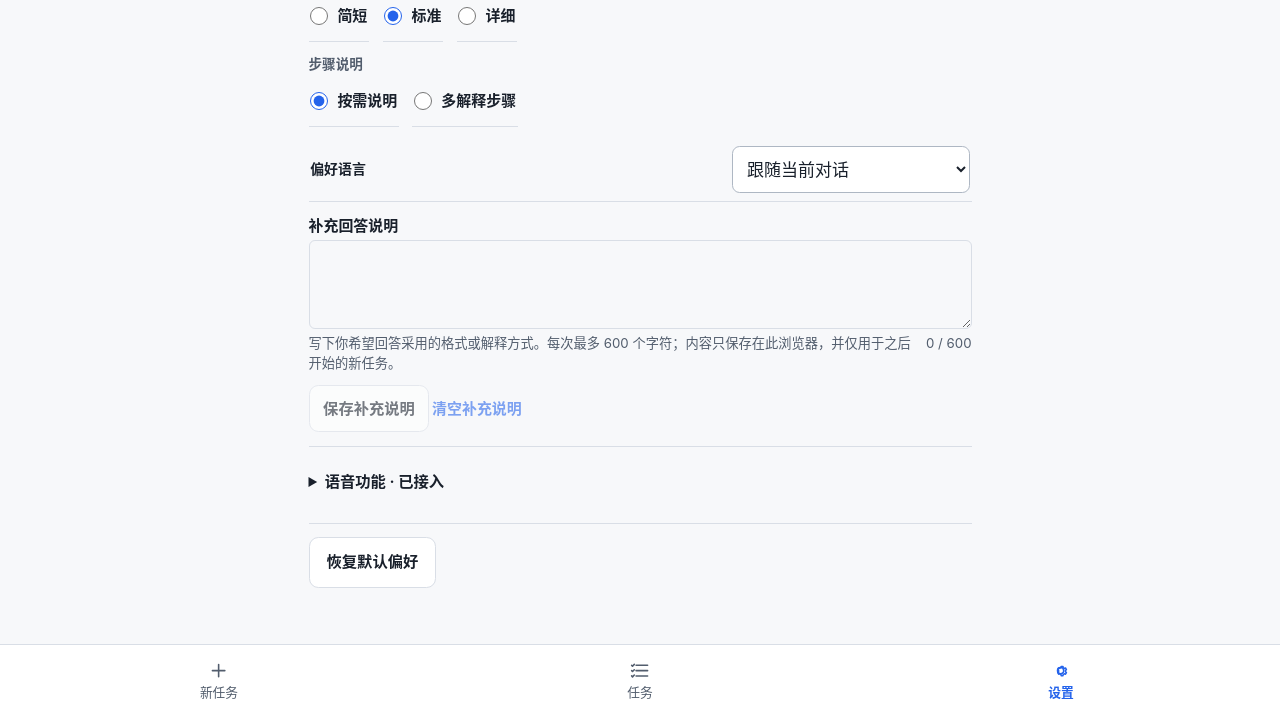
Scenario: personal preferences screen › uses only explicitly injected voice capabilities and keeps their input local to the page
The image size is (1280, 716).
(page scrolled)
Click the heading "语音功能 · 已接入" at (384, 481), box [325,472,444,491]
(page scrolled)
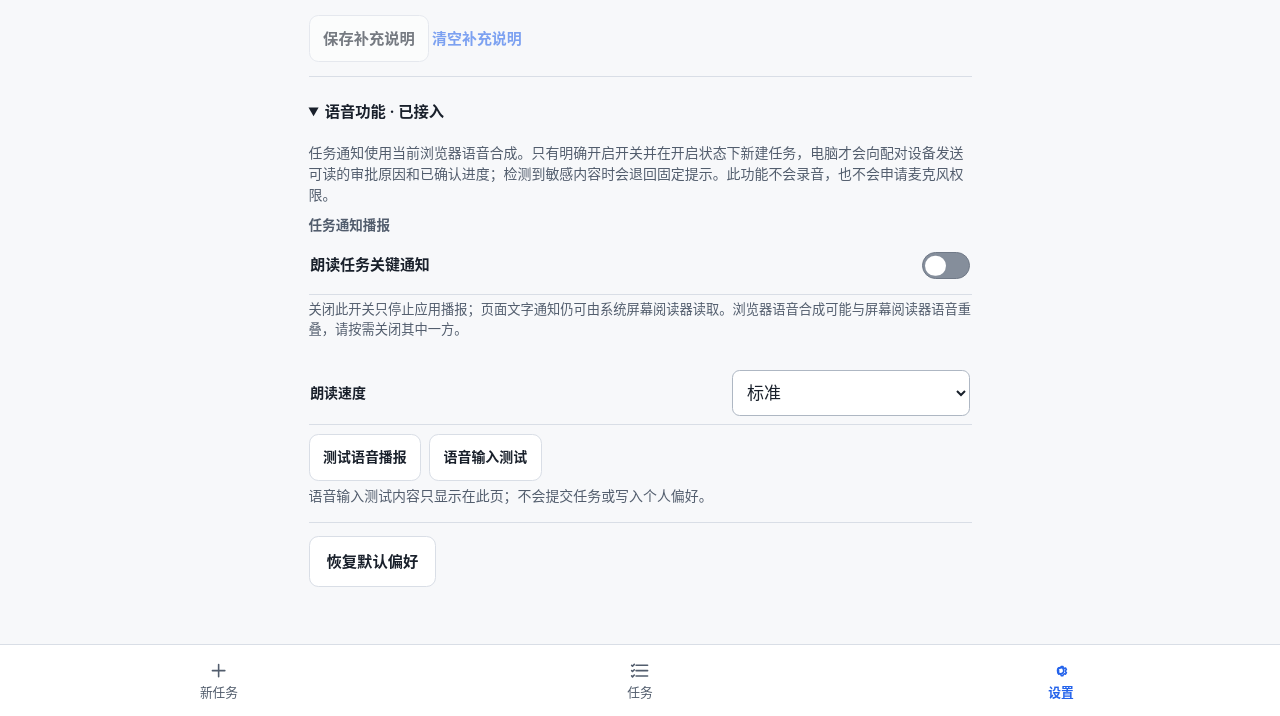
Click the button "测试语音播报" at (365, 458), box [308,434,421,481]
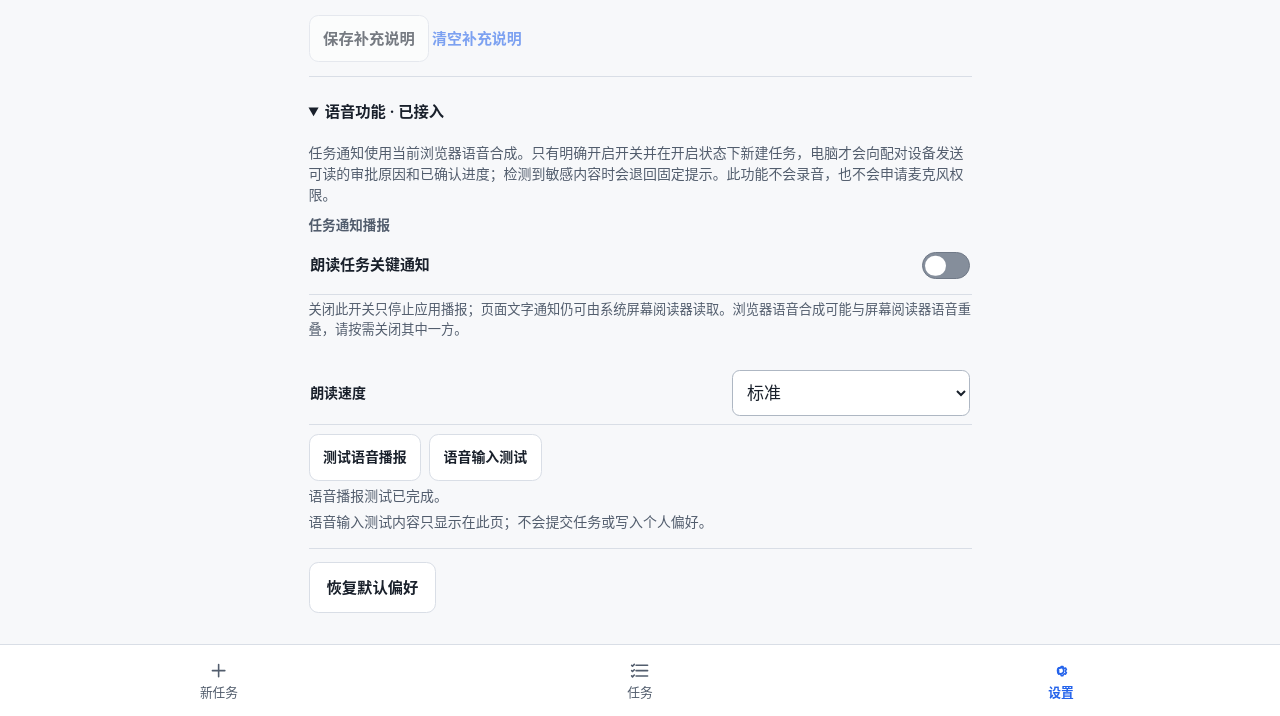
Now the text "语音播报测试已完成。" is shown, box [308,487,448,504]
Click the button "语音输入测试" at (485, 458), box [429,434,542,481]
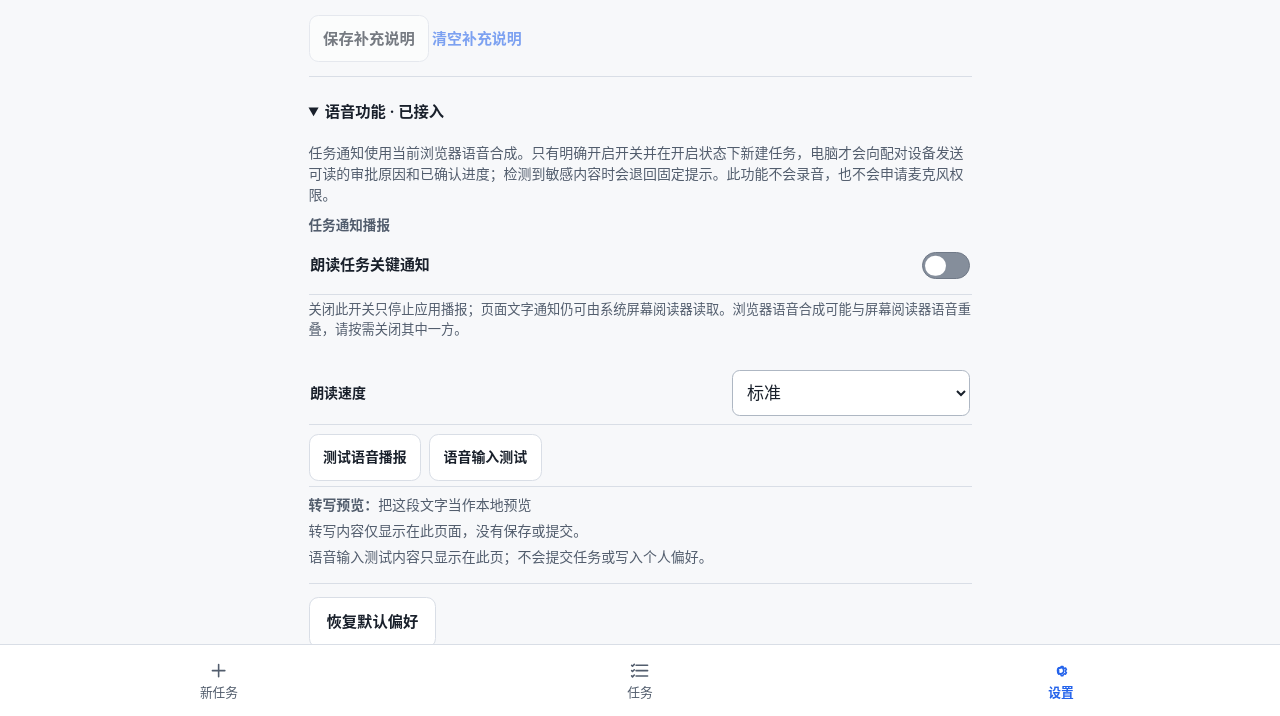
Now the text "把这段文字当作本地预览" is shown, box [378,496,532,513]
